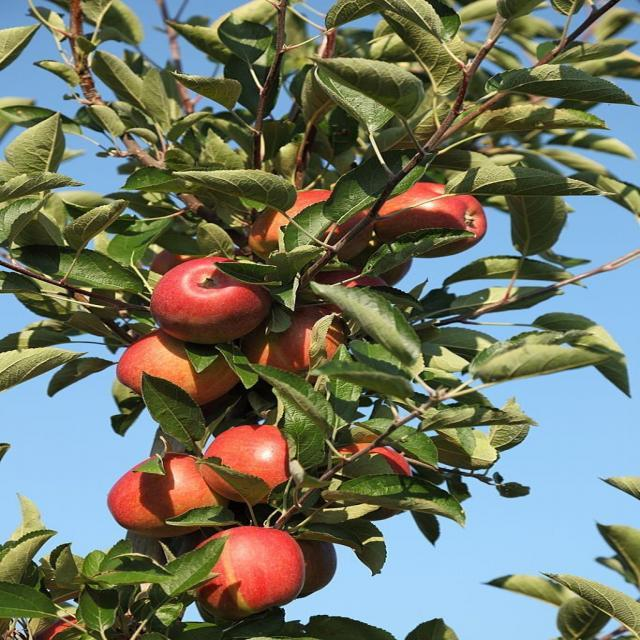Red Apple: (119, 319, 262, 408), (158, 255, 274, 344), (200, 533, 324, 613), (113, 455, 226, 536), (207, 424, 318, 504), (256, 188, 376, 259), (377, 186, 485, 252), (252, 315, 339, 375), (343, 437, 425, 493)
